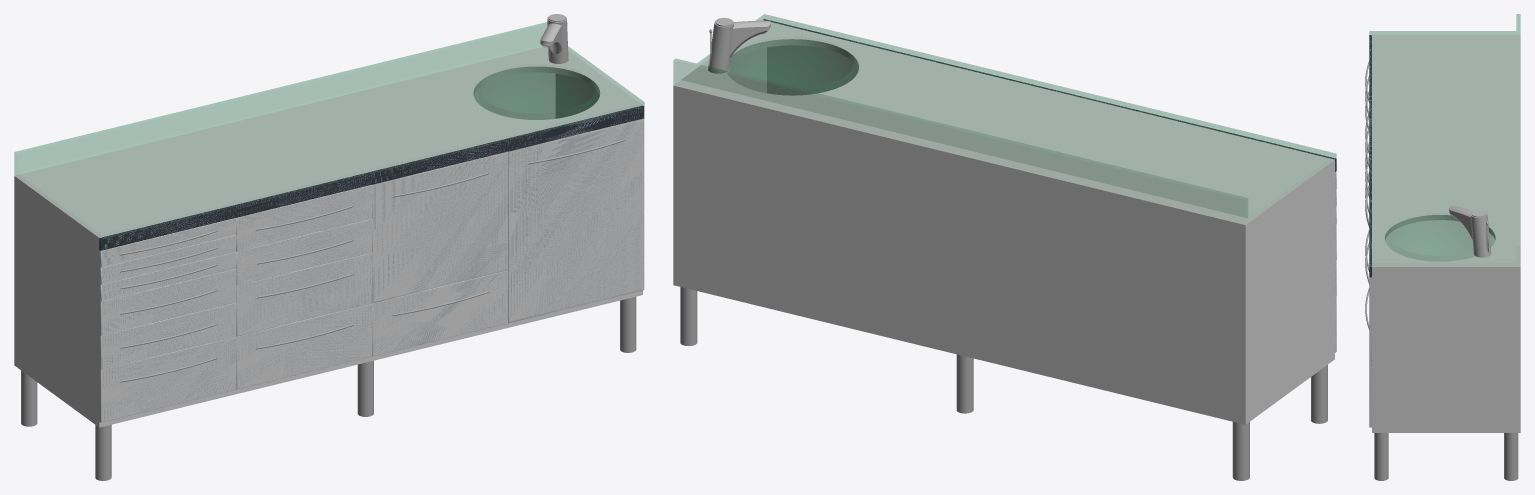
3 views of the same model, side by side, from view 1: azimuth 30°, elevation 25°; view 2: azimuth 150°, elevation 25°; view 3: azimuth 270°, elevation 25° (orthographic). The views are drawn at different scales.
Parts seen in each view (by area): view 1: Group_37 (×13), group_2 (×3), group_4 (×3), Group_36 (×4), Group_31 (×4); view 2: group_2 (×3), group_4 (×3), Group_31 (×4), group_6, group_7; view 3: group_2 (×3), group_4 (×3), Group_31 (×2), group_6, Group_37, group_7, Group_36.
Boxes of the visible parts, x1=… form: Group_37 (×13): x1=99, y1=118, x2=644, y2=422; group_2 (×3): x1=14, y1=46, x2=642, y2=427; group_4 (×3): x1=14, y1=22, x2=644, y2=238; Group_36 (×4): x1=99, y1=105, x2=644, y2=250; Group_31 (×4): x1=21, y1=297, x2=636, y2=480; group_2 (×3): x1=673, y1=20, x2=1334, y2=424; group_4 (×3): x1=673, y1=14, x2=1336, y2=224; Group_31 (×4): x1=680, y1=287, x2=1327, y2=480; group_6: x1=708, y1=21, x2=733, y2=73; group_7: x1=729, y1=20, x2=770, y2=57; group_2 (×3): x1=1372, y1=35, x2=1520, y2=432; group_4 (×3): x1=1369, y1=14, x2=1520, y2=266; Group_31 (×2): x1=1374, y1=433, x2=1518, y2=480; group_6: x1=1470, y1=212, x2=1491, y2=257; Group_37: x1=1369, y1=277, x2=1371, y2=427; group_7: x1=1449, y1=205, x2=1472, y2=239; Group_36: x1=1369, y1=209, x2=1371, y2=277.
Size of the model in its own units: 75.79 by 21.46 by 39.29.
